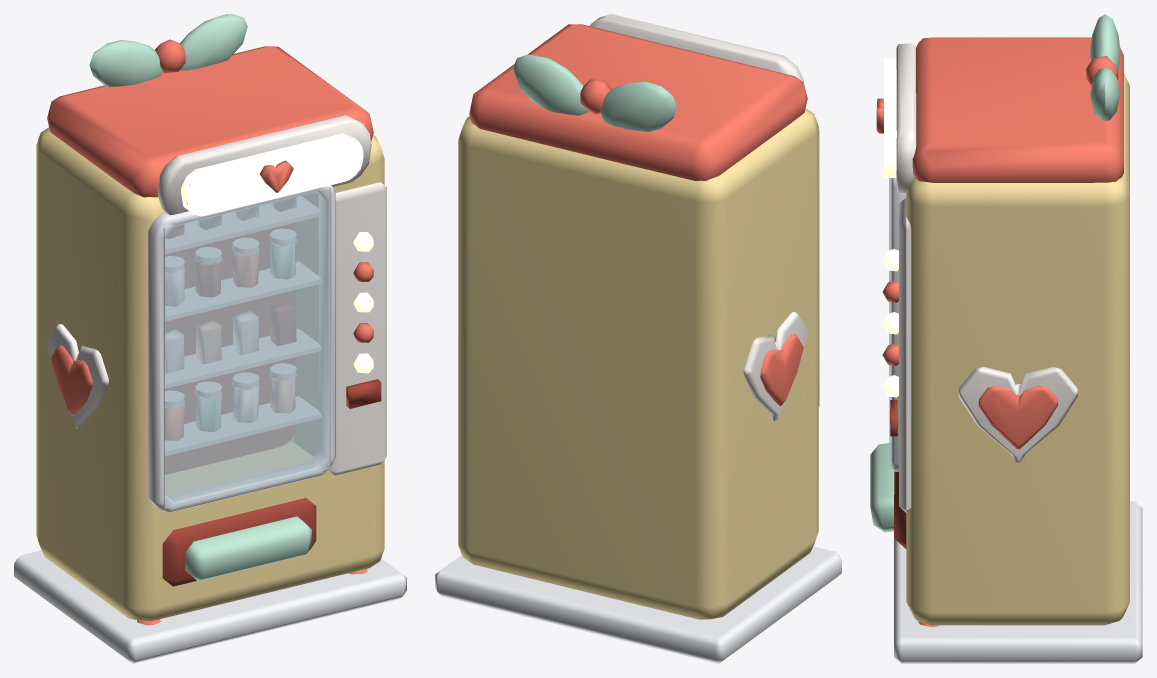
Rendered from lite_vending_pod.glb.
3 renders of one model, left to right at view 1: azimuth 30°, elevation 25°; view 2: azimuth 150°, elevation 25°; view 3: azimuth 270°, elevation 25°, orthographic. The views are drawn at different scales.
Visible parts, largest first — view 1: vending_pod; view 2: vending_pod; view 3: vending_pod.
Boxes of the visible parts, x1,y1,x2,y2 form: vending_pod: [14, 14, 406, 663]; vending_pod: [435, 14, 841, 663]; vending_pod: [870, 14, 1142, 663].
Bounding box in the file's own units: 1.37 × 2.44 × 1.09.
